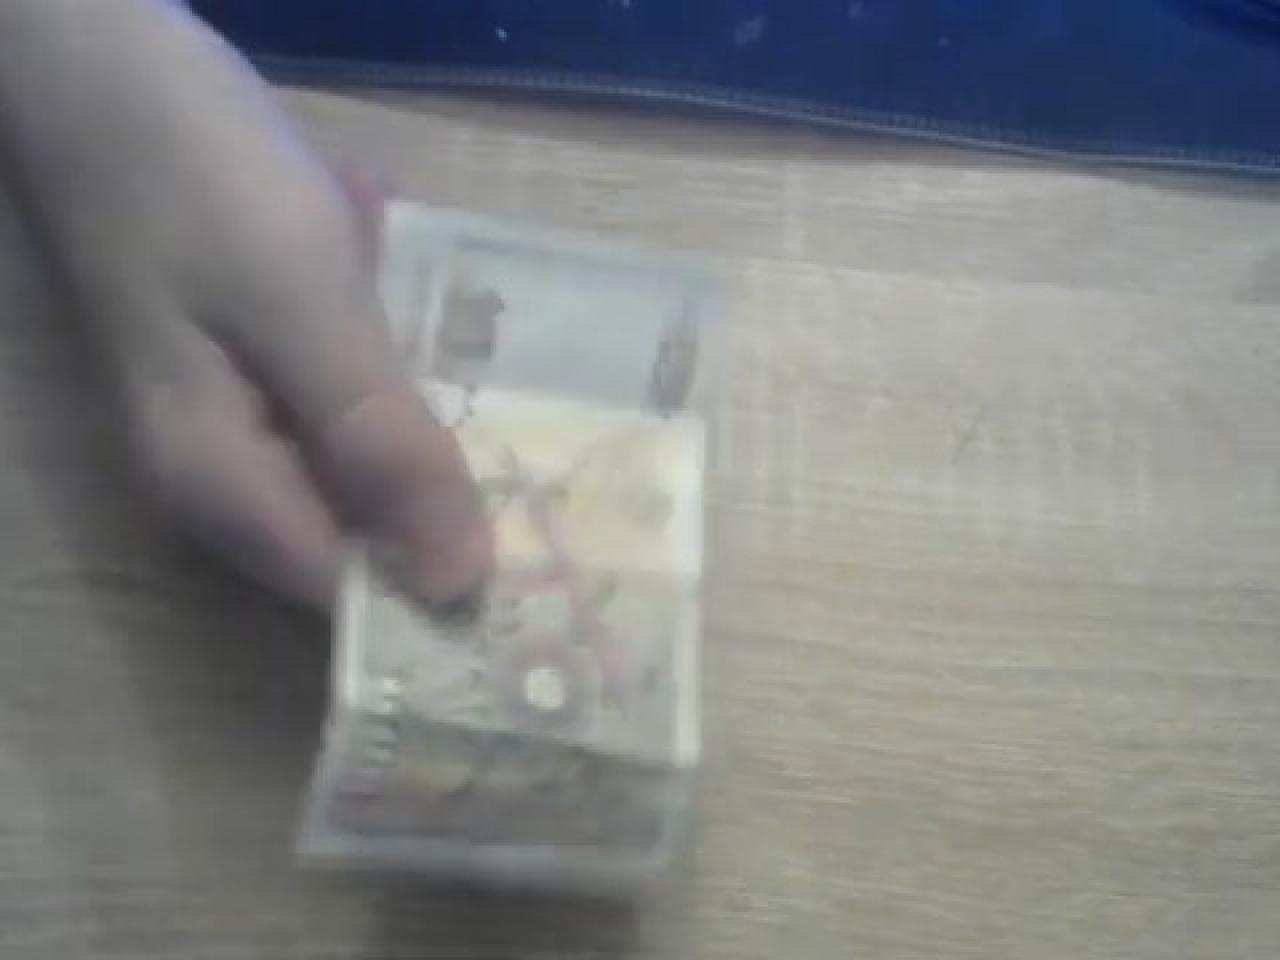10leva: (290, 206, 718, 910)
